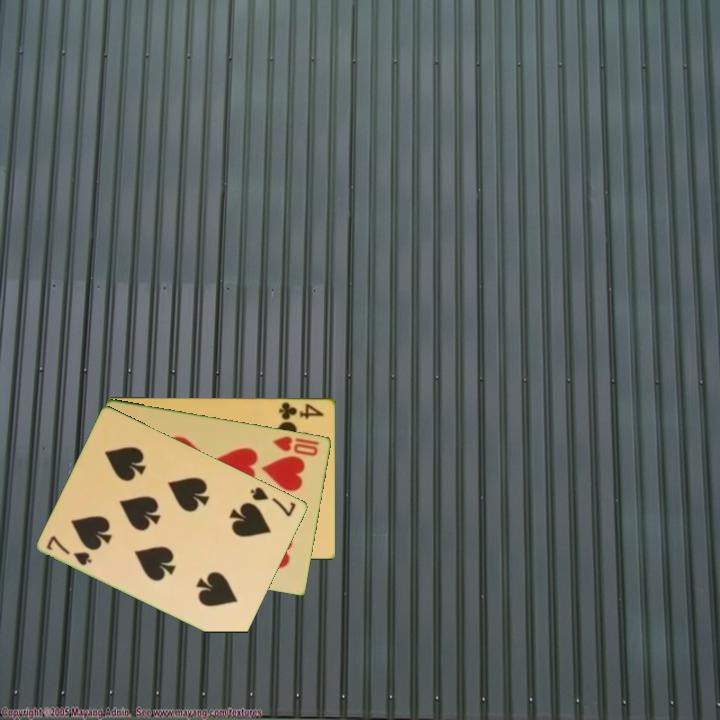10h: (269, 432, 321, 459)
4c: (276, 398, 327, 422)
7s: (247, 483, 299, 519), (43, 532, 95, 568)
